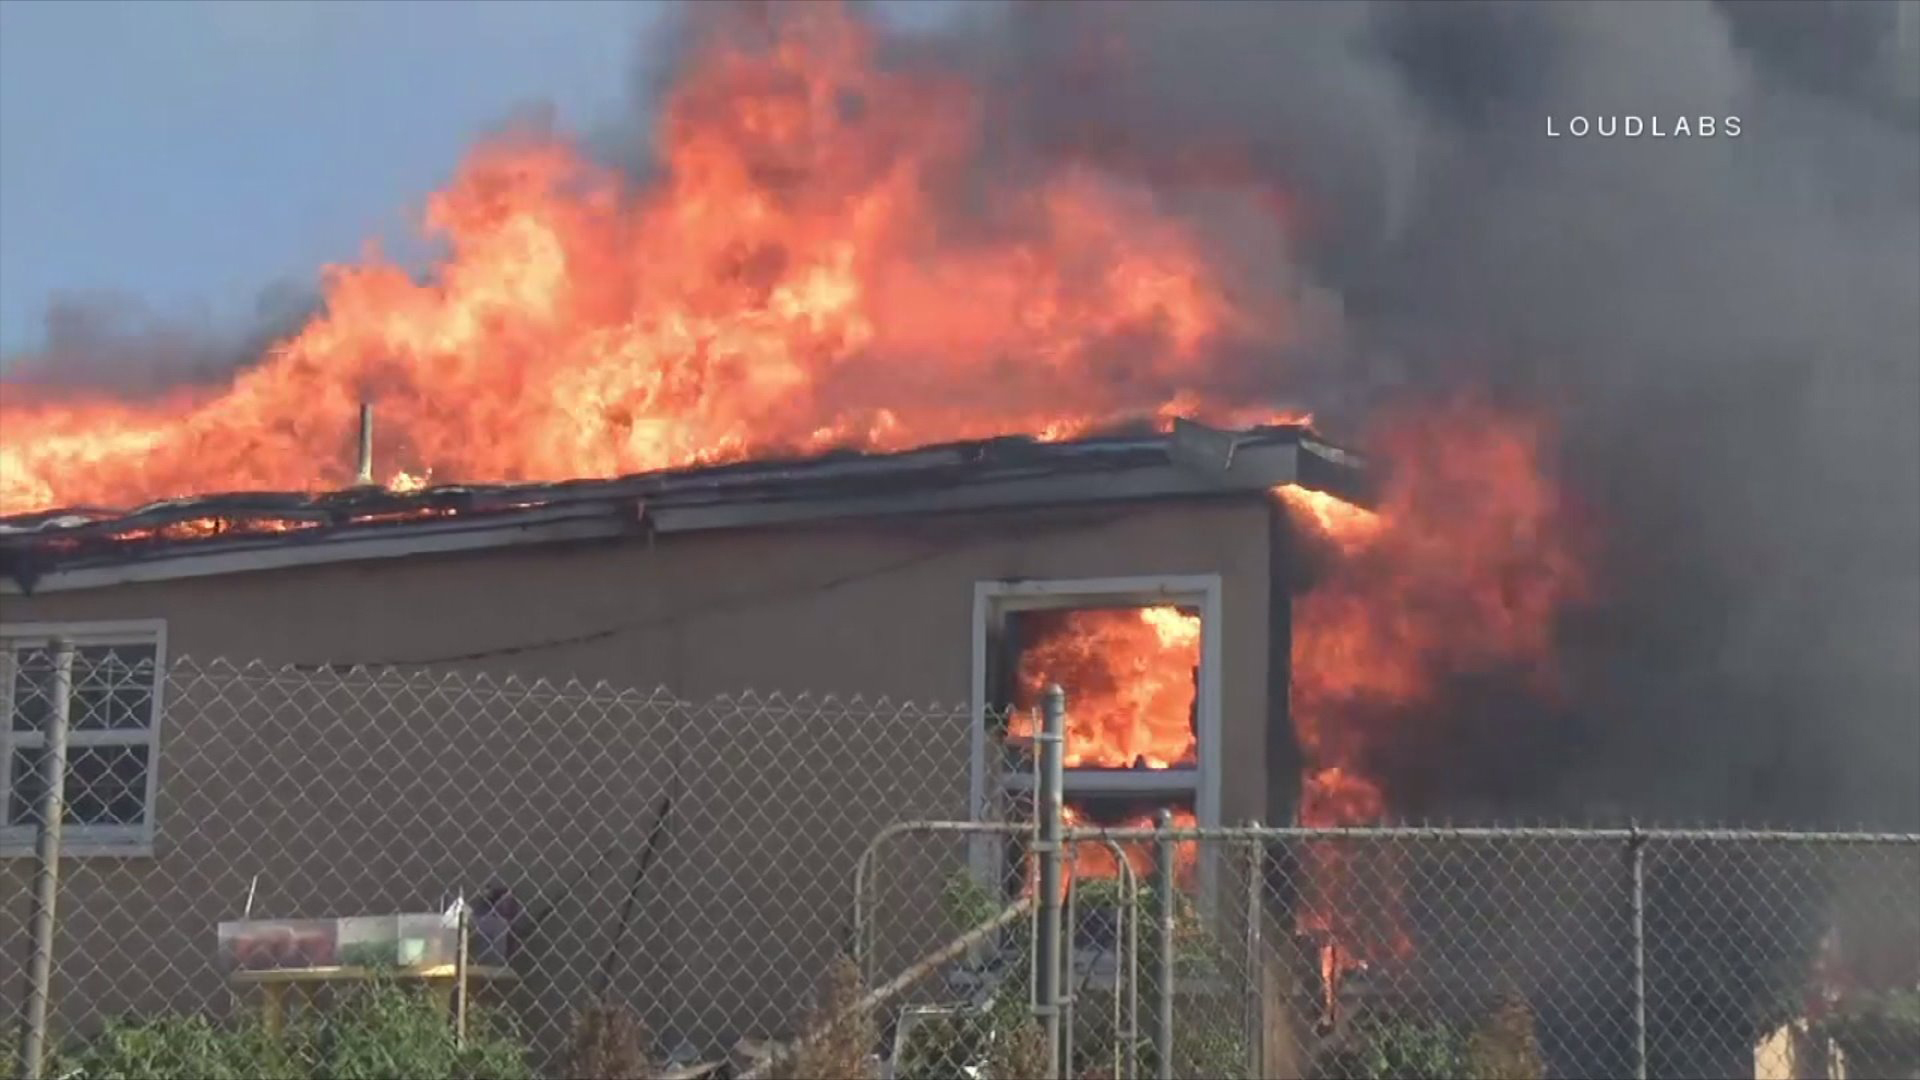fire: (340, 179, 864, 350), (11, 352, 711, 479), (875, 201, 1180, 423), (1304, 483, 1487, 692), (1018, 617, 1200, 763)
smoke: (1229, 19, 1904, 445), (1560, 461, 1918, 799), (958, 12, 982, 21)
